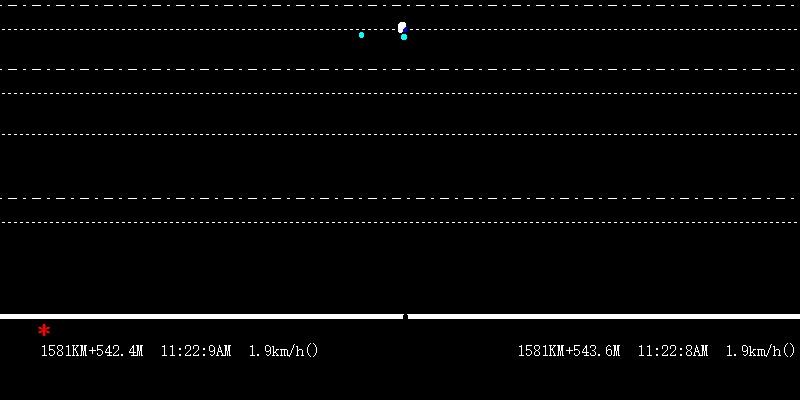face_s: (398, 18, 405, 34)
star: (35, 322, 52, 339)
